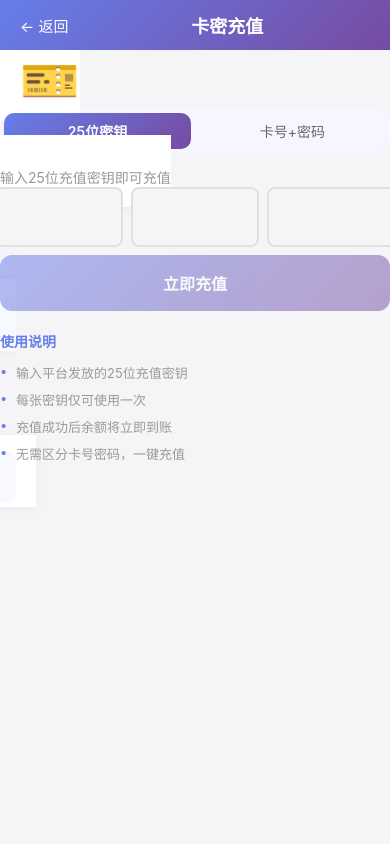
CardRecharge 双模式 › 卡号+密码失败时展示服务端 message，不刷新余额也不核销
The image size is (390, 844).
Click the text with class "mode-item" showing "卡号+密码": (293, 132) [260,123,325,140]
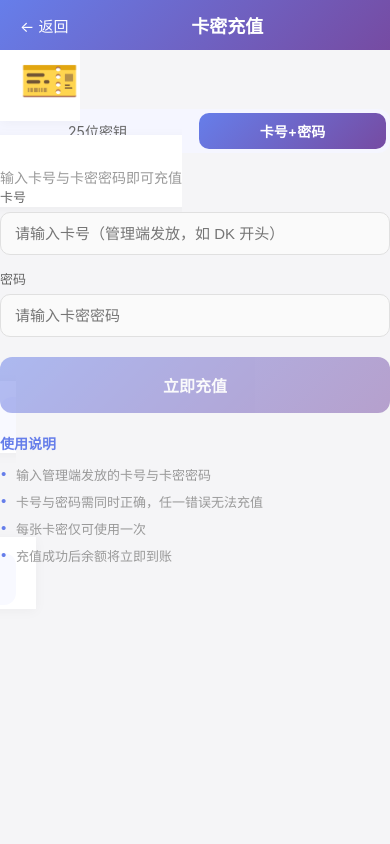
In the field with class "credential-input" showing "请输入卡号（管理端发放，如 DK 开头）": (195, 234) [0,212,389,255], type "DKBADBADBADBADB"
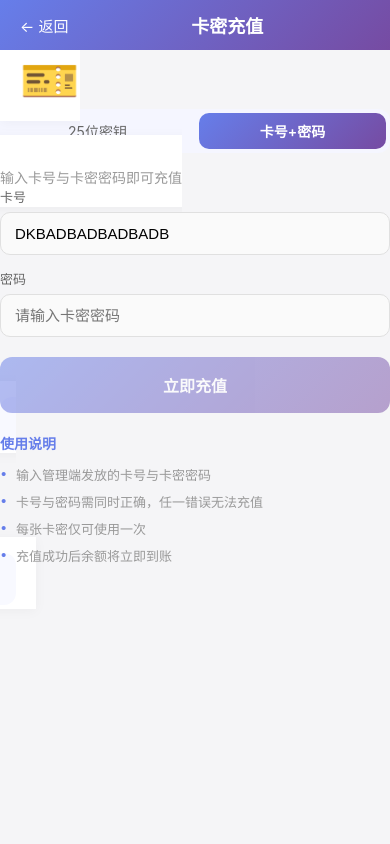
In the password field with class "credential-input" showing "请输入卡密密码": (195, 316) [0,294,389,337], type "WRONGPWD"
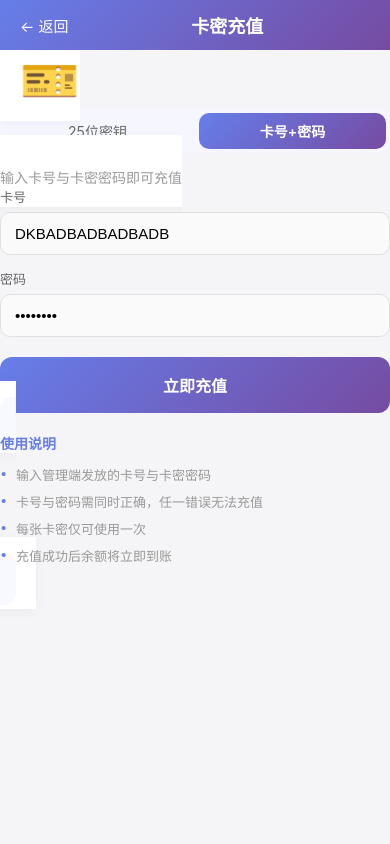
Click the button with class "submit-btn": (195, 385) [0,357,389,413]
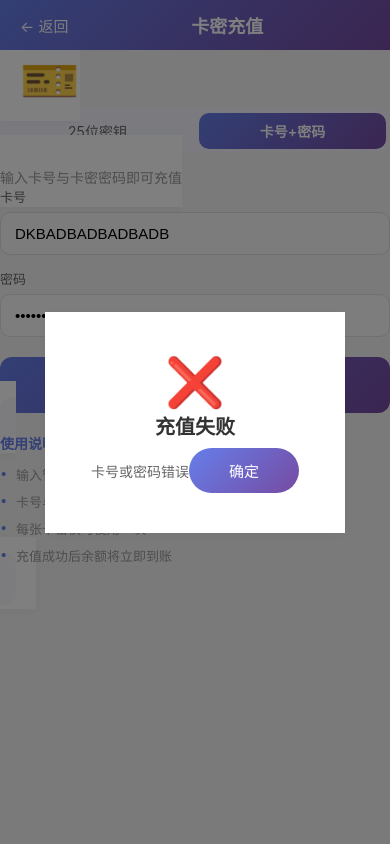
Expected: the element with class "result-content" shows "卡号或密码错误", [91,462,189,480]
